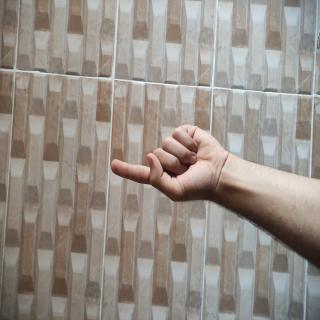BAA: (82, 143, 152, 316)
